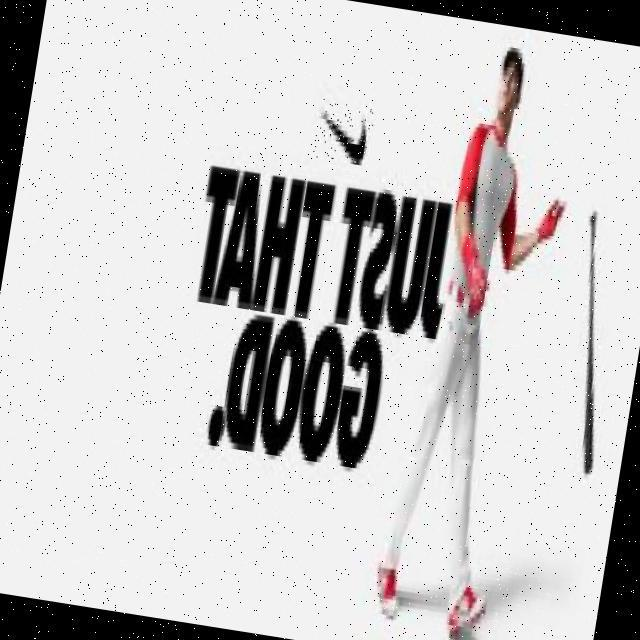Nike: (313, 98, 377, 166)
